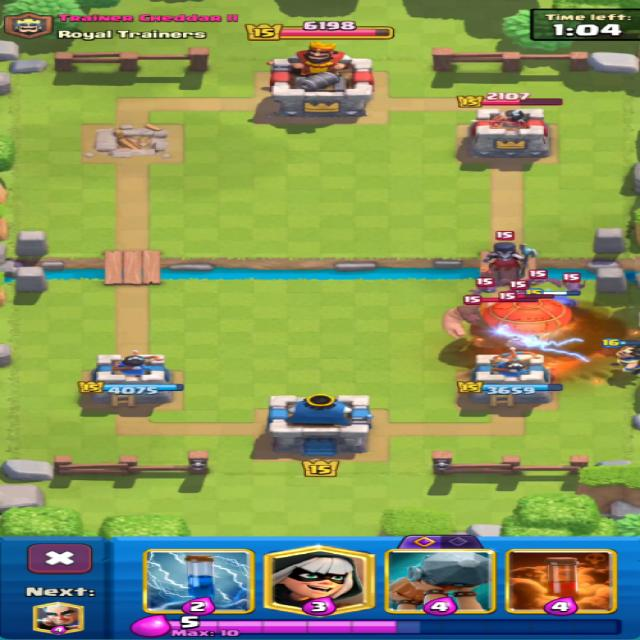Enemy-Balloon: (483, 296, 571, 345)
Enemy-Bat: (530, 269, 561, 286), (556, 274, 582, 293), (471, 278, 495, 294), (509, 280, 527, 293)
Enemy-Giant: (443, 303, 493, 345)
Enemy-KingTower-Activated: (271, 42, 374, 116)
Enemy-NightWitch: (482, 240, 538, 276)
Enemy-PrincessTower: (466, 108, 549, 162)
Player-ElectroWizard: (603, 339, 639, 373)
Player-KingTower: (268, 393, 372, 455)
Player-PrincessTower: (78, 351, 183, 407), (458, 353, 561, 405)
